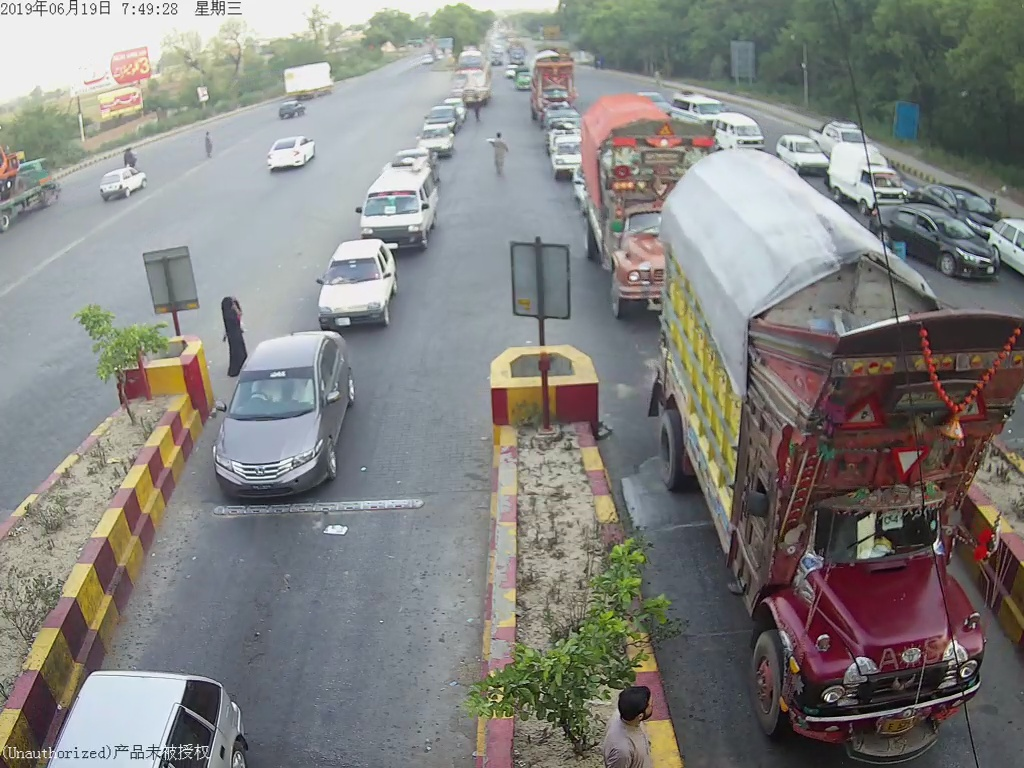Cat-1: (211, 324, 359, 498), (310, 240, 400, 332)
Cat-2: (366, 166, 446, 254)
Cat-4: (669, 159, 998, 729), (571, 88, 702, 315)
